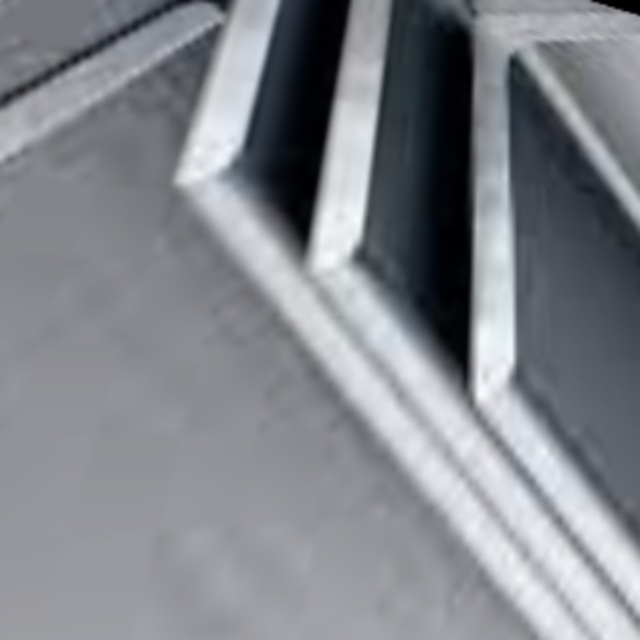Angle: (321, 0, 640, 289), (201, 0, 580, 210), (0, 0, 190, 404), (490, 0, 640, 363), (0, 0, 164, 225), (0, 0, 159, 81)
